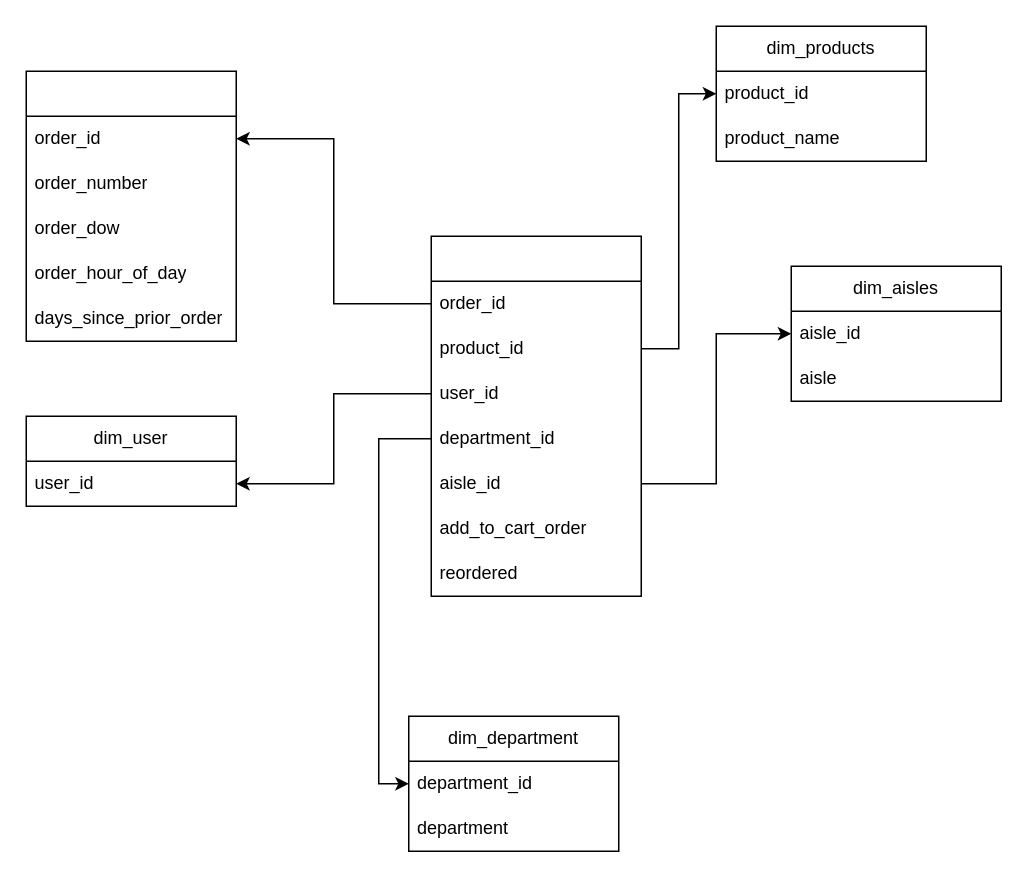
The diagram is 1028 pixels wide and 878 high, and some of its shapes have lost their labels. Each missing label, with the box of its shape:
dim_orders: (25, 70, 236, 341)
fact_order_products: (430, 235, 641, 596)
